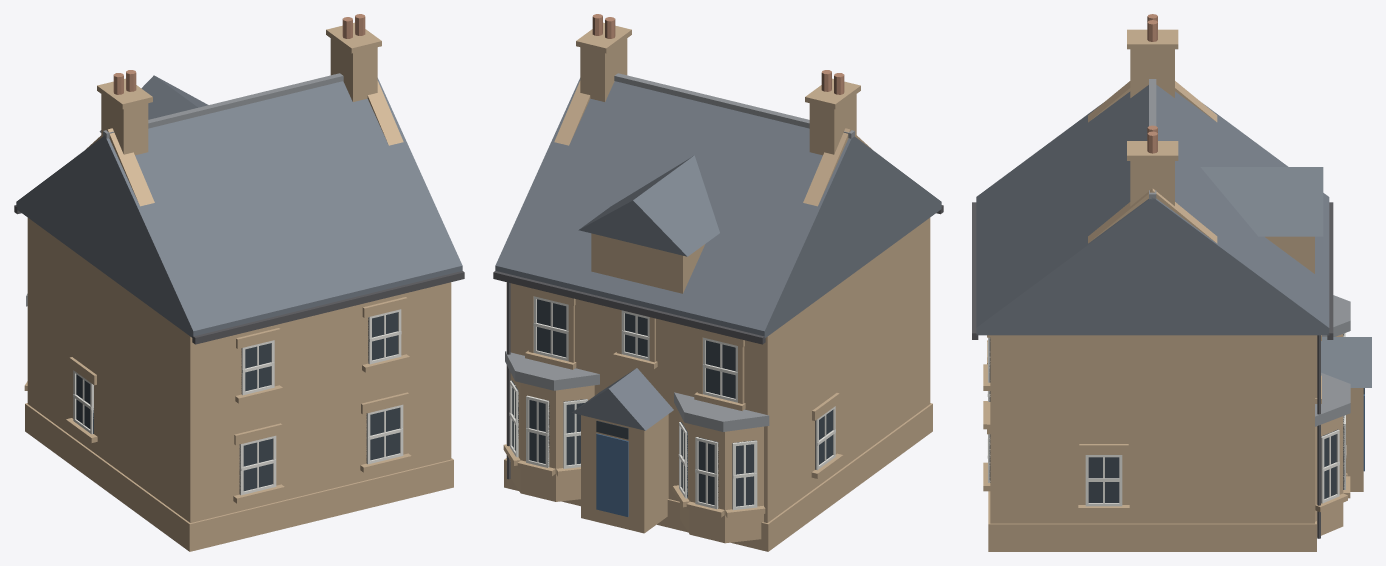
The model's file is villa_c.glb.
3 views of the same model, side by side, from view 1: azimuth 30°, elevation 25°; view 2: azimuth 150°, elevation 25°; view 3: azimuth 270°, elevation 25° (orthographic).
Visible parts, largest first — view 1: villa_c; view 2: villa_c; view 3: villa_c.
Part boxes in pixels (x1,y1,x2,y2): villa_c: [14, 14, 464, 551]; villa_c: [493, 14, 943, 551]; villa_c: [972, 14, 1371, 551].
Bounding box in the file's own units: 7.74 × 11.22 × 9.85.
